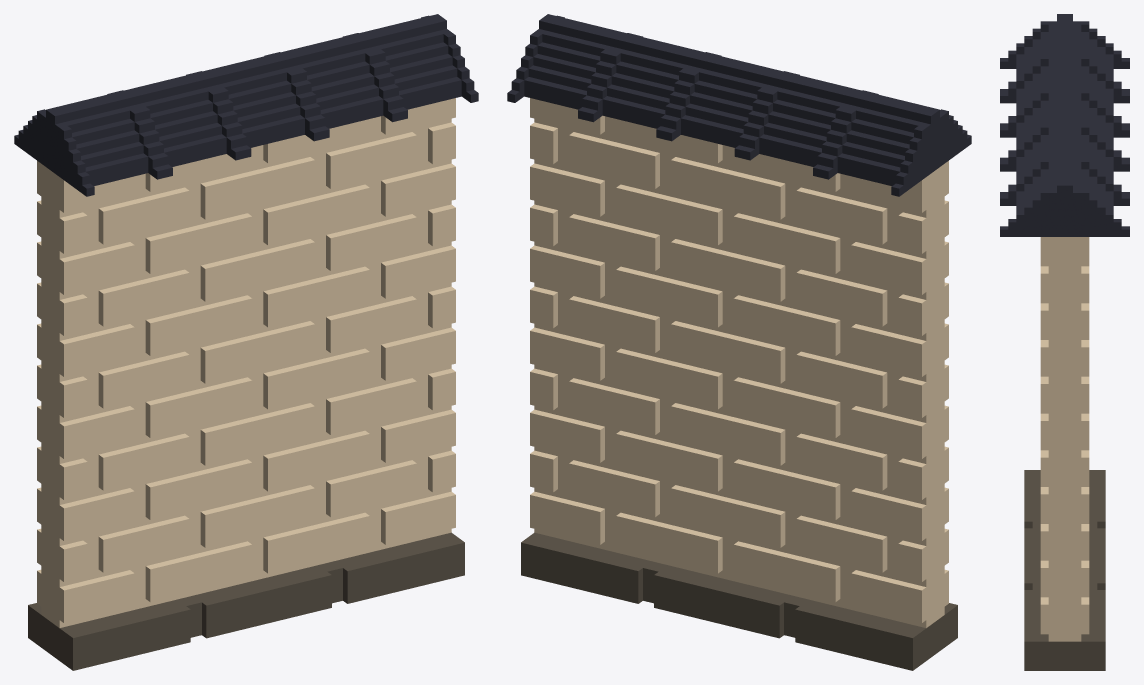
Rendered from Korean_wall_01.FBX.
3 views of the same model, side by side, from view 1: azimuth 30°, elevation 25°; view 2: azimuth 150°, elevation 25°; view 3: azimuth 270°, elevation 25° (orthographic). The views are drawn at different scales.
Parts seen in each view (by area): view 1: untitled-0; view 2: untitled-0; view 3: untitled-0.
Boxes of the visible parts, x1,y1,x2,y2 form: untitled-0: (14,14,478,670); untitled-0: (507,14,971,670); untitled-0: (1000,14,1129,670).
Size of the model in its own units: 49.99 by 65.99 by 16.
Materials: 1 (1 with a texture image).
